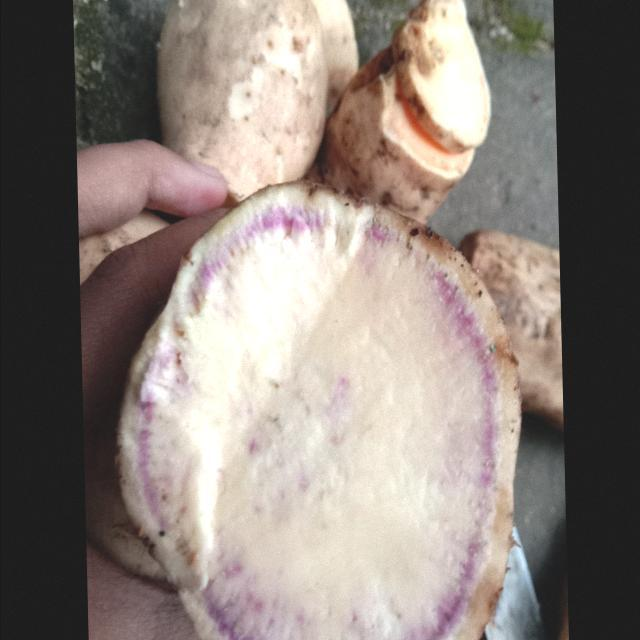Healthy Sweet Potato: (118, 182, 520, 638)
